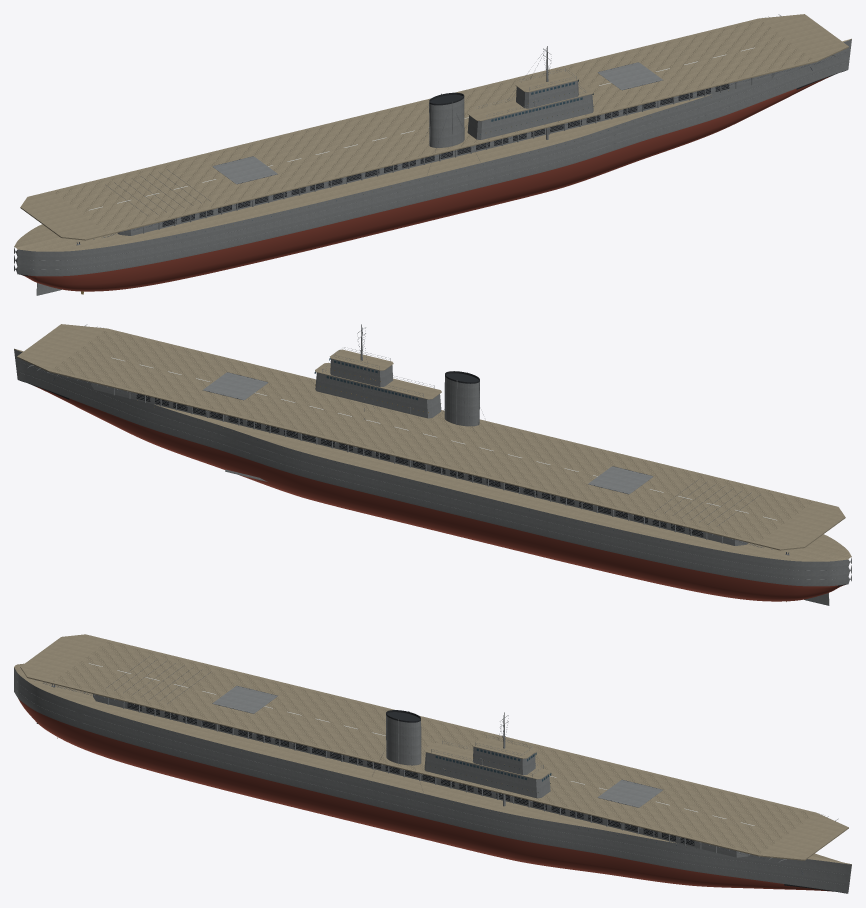
Rendered from unryu_t32.glb.
3 views of the same model, one above another, from view 1: azimuth 30°, elevation 25°; view 2: azimuth 150°, elevation 25°; view 3: azimuth 330°, elevation 25° (orthographic).
Parts seen in each view (by area): view 1: Unryū class; view 2: Unryū class; view 3: Unryū class.
Part boxes in pixels (bbox=[...]): Unryū class: bbox=[14, 14, 851, 295]; Unryū class: bbox=[14, 324, 851, 605]; Unryū class: bbox=[14, 634, 851, 893].
Size of the model in its own units: 236 by 40.08 by 29.73.
Materials: 8 (2 with a texture image).
